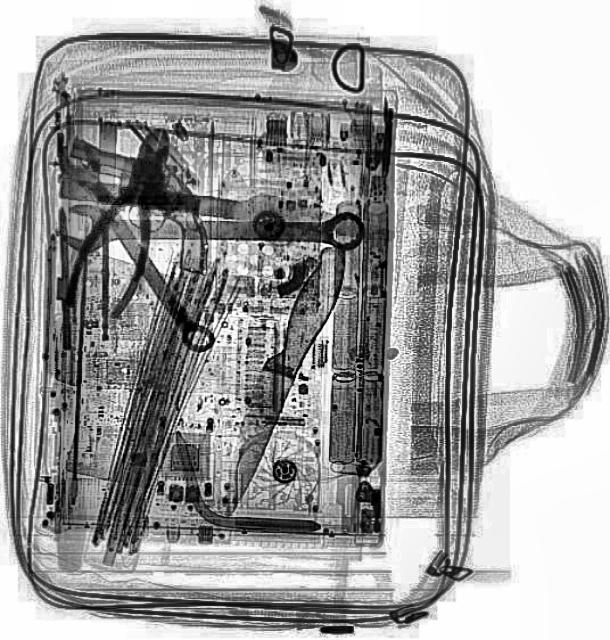Gun: (41, 133, 230, 275)
Knife: (200, 241, 354, 519), (61, 170, 351, 230)
Pliers: (57, 117, 190, 320)
Wrench: (49, 134, 226, 356), (61, 202, 364, 258)
